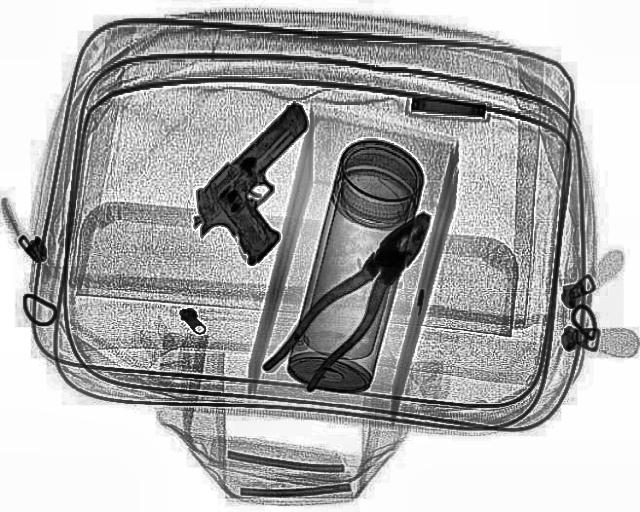Gun: (165, 98, 378, 266)
Pliers: (258, 200, 454, 394)
